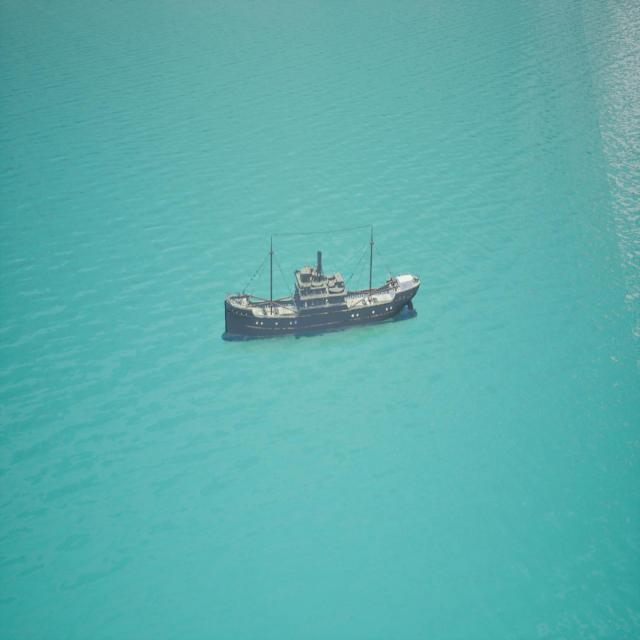fishing ship: (226, 230, 420, 341)
